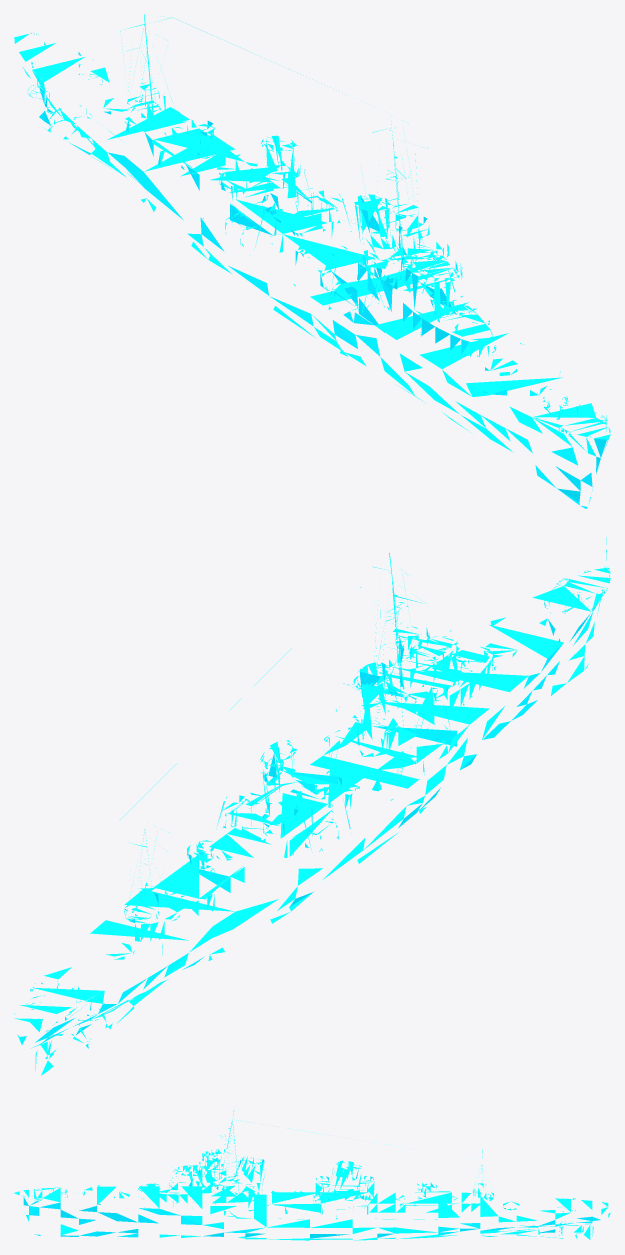
File: Pr_20i_Tashkent.glb
The picture shows the model from 3 angles, top to bottom: view 1: azimuth 30°, elevation 25°; view 2: azimuth 150°, elevation 25°; view 3: azimuth 270°, elevation 25°; orthographic projection. The views are drawn at different scales.
Bounding box in the file's own units: 0.9323 × 2.33 × 9.29.
